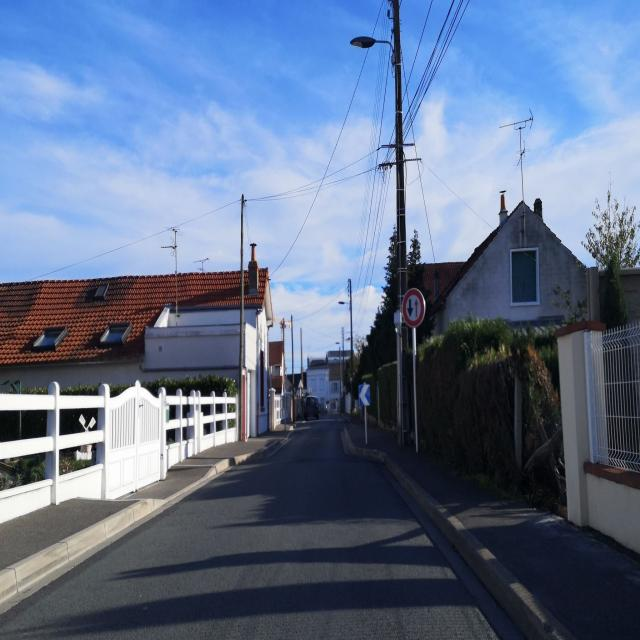car: (302, 393, 320, 420)
